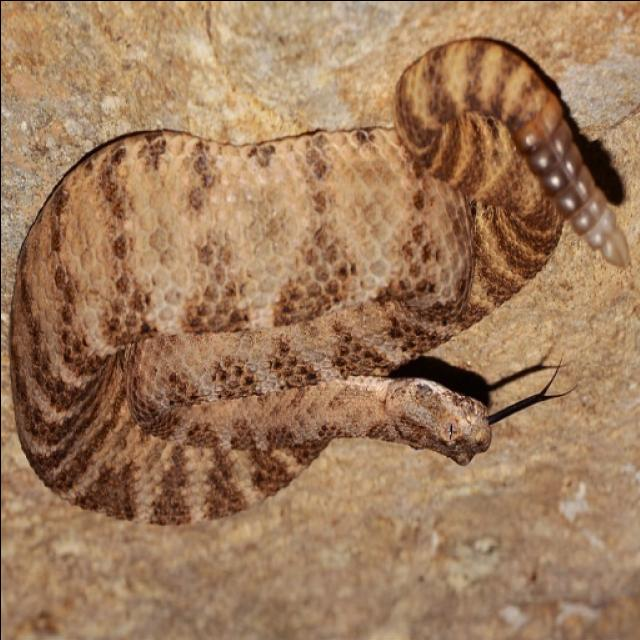snake: (18, 36, 614, 533)
